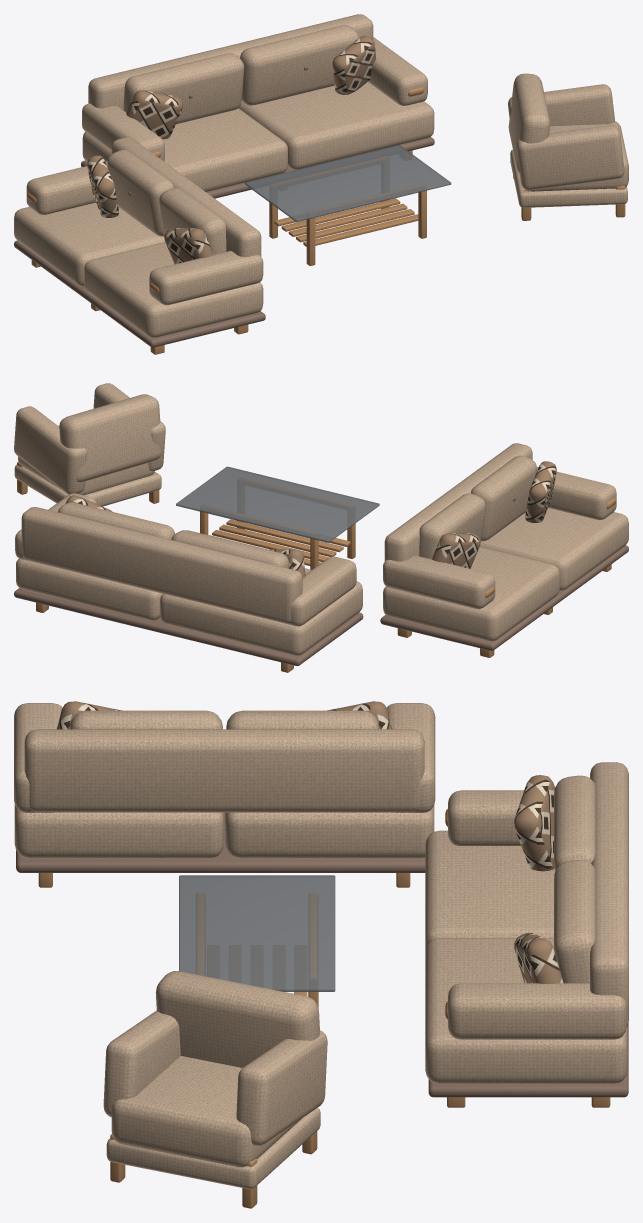
File: limoon-koltuk-tam-takim.glb
The picture shows the model from 3 angles, top to bottom: view 1: azimuth 30°, elevation 25°; view 2: azimuth 150°, elevation 25°; view 3: azimuth 270°, elevation 25°; orthographic projection. The views are drawn at different scales.
Parts seen in each view (by area): view 1: MainSofa3_Seat_1, CT_GlassTop, SideSofa2_Seat_1, MainSofa3_Seat_0, SideSofa2_Seat_0, MainSofa3_BackCushion_1, Berjer_Arm_0, MainSofa3_BackCushion_0, SideSofa2_ArmBase_1, MainSofa3_BackFrame, SideSofa2_BackCushion_0, SideSofa2_BackFrame (+18 smaller); view 2: MainSofa3_BackFrame, CT_GlassTop, SideSofa2_Seat_0, SideSofa2_Seat_1, MainSofa3_Seat_0, Berjer_Back, MainSofa3_Seat_1, SideSofa2_ArmBase_0, Berjer_Arm_1, MainSofa3_Plinth, SideSofa2_BackCushion_1, SideSofa2_BackFrame (+16 smaller); view 3: SideSofa2_BackFrame, CT_GlassTop, MainSofa3_Seat_1, MainSofa3_Seat_0, Berjer_Seat, Berjer_Back, SideSofa2_Seat_1, MainSofa3_ArmBase_1, SideSofa2_Seat_0, MainSofa3_BackFrame, Berjer_Arm_1, SideSofa2_Plinth (+12 smaller).
Boxes of the visible parts, bbox=[...] form: MainSofa3_Seat_1: bbox=[239, 82, 434, 169]; CT_GlassTop: bbox=[244, 145, 451, 222]; SideSofa2_Seat_1: bbox=[84, 242, 263, 337]; MainSofa3_Seat_0: bbox=[82, 108, 287, 192]; SideSofa2_Seat_0: bbox=[14, 202, 164, 286]; MainSofa3_BackCushion_1: bbox=[240, 25, 359, 105]; Berjer_Arm_0: bbox=[516, 125, 624, 190]; MainSofa3_BackCushion_0: bbox=[123, 53, 244, 124]; SideSofa2_ArmBase_1: bbox=[149, 251, 263, 305]; MainSofa3_BackFrame: bbox=[88, 14, 373, 110]; SideSofa2_BackCushion_0: bbox=[107, 149, 173, 236]; SideSofa2_BackFrame: bbox=[111, 137, 261, 256]; MainSofa3_BackFrame: bbox=[21, 507, 302, 624]; CT_GlassTop: bbox=[176, 466, 379, 542]; SideSofa2_Seat_0: bbox=[383, 547, 559, 641]; SideSofa2_Seat_1: bbox=[480, 508, 628, 590]; MainSofa3_Seat_0: bbox=[160, 568, 362, 655]; Berjer_Back: bbox=[59, 394, 161, 481]; MainSofa3_Seat_1: bbox=[16, 558, 162, 620]; SideSofa2_ArmBase_0: bbox=[383, 555, 495, 609]; Berjer_Arm_1: bbox=[14, 406, 87, 494]; MainSofa3_Plinth: bbox=[14, 588, 363, 665]; SideSofa2_BackCushion_1: bbox=[471, 455, 536, 541]; SideSofa2_BackFrame: bbox=[384, 443, 532, 561]; SideSofa2_BackFrame: bbox=[24, 729, 424, 812]; CT_GlassTop: bbox=[179, 875, 335, 991]; MainSofa3_Seat_1: bbox=[425, 938, 627, 1084]; MainSofa3_Seat_0: bbox=[425, 830, 555, 950]; Berjer_Seat: bbox=[111, 1056, 301, 1167]; Berjer_Back: bbox=[155, 971, 320, 1067]; SideSofa2_Seat_1: bbox=[14, 804, 223, 858]; MainSofa3_ArmBase_1: bbox=[448, 983, 626, 1039]; SideSofa2_Seat_0: bbox=[225, 805, 434, 858]; MainSofa3_BackFrame: bbox=[590, 762, 628, 1026]; Berjer_Arm_1: bbox=[236, 1030, 327, 1145]; SideSofa2_Plinth: bbox=[16, 812, 425, 872].
Bounding box in the file's own units: 4.37 × 0.8164 × 2.83.
5 materials, 2 textured.
